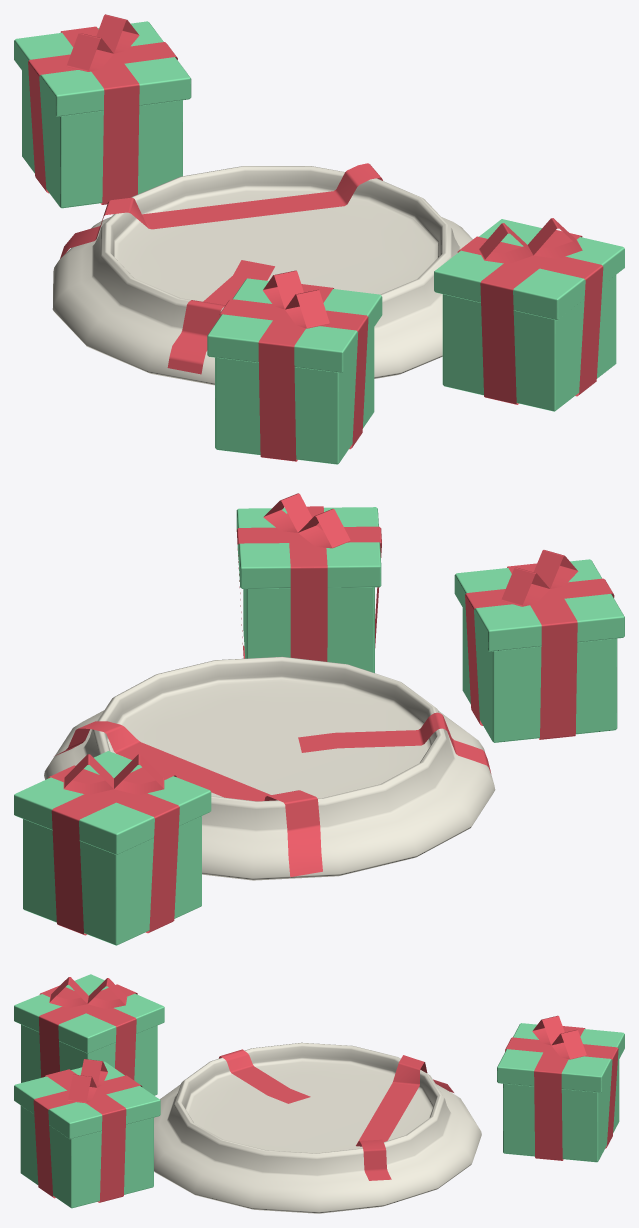
The model's file is gift_Platform001.fbx.
3 views of the same model, one above another, from view 1: azimuth 30°, elevation 25°; view 2: azimuth 150°, elevation 25°; view 3: azimuth 270°, elevation 25° (orthographic). The views are drawn at different scales.
Visible parts, largest first — view 1: Box; view 2: Box; view 3: Box.
Boxes of the visible parts, x1=… form: Box: x1=14, y1=14, x2=624, y2=464; Box: x1=14, y1=493, x2=624, y2=945; Box: x1=14, y1=974, x2=624, y2=1213.
Size of the model in its own units: 236 by 83.95 by 401.
